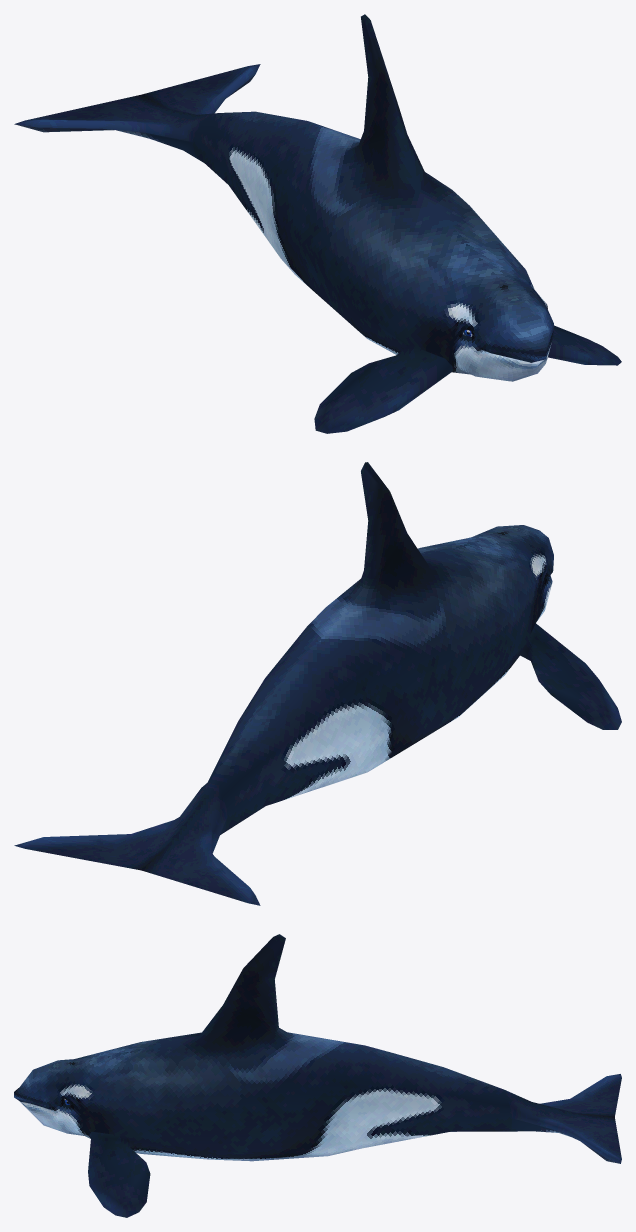
File: ps2_save-icons_seaworldshamusdeepseaadventures.glb
3 views of the same model, one above another, from view 1: azimuth 30°, elevation 25°; view 2: azimuth 150°, elevation 25°; view 3: azimuth 270°, elevation 25° (orthographic). The views are drawn at different scales.
Visible parts, largest first — view 1: static.ico; view 2: static.ico; view 3: static.ico.
Part boxes in pixels (x1,y1,x2,y2): static.ico: (14, 14, 621, 433); static.ico: (14, 462, 621, 905); static.ico: (14, 934, 621, 1217).
Size of the model in its own units: 2.15 by 2.07 by 5.
Materials: 1 (1 with a texture image).
